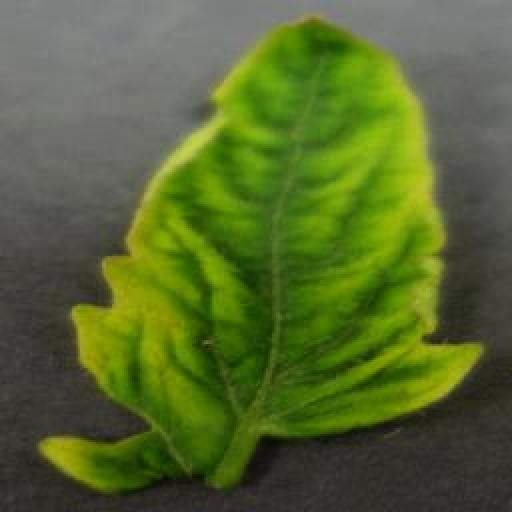disease_tomato: (42, 12, 484, 494)
